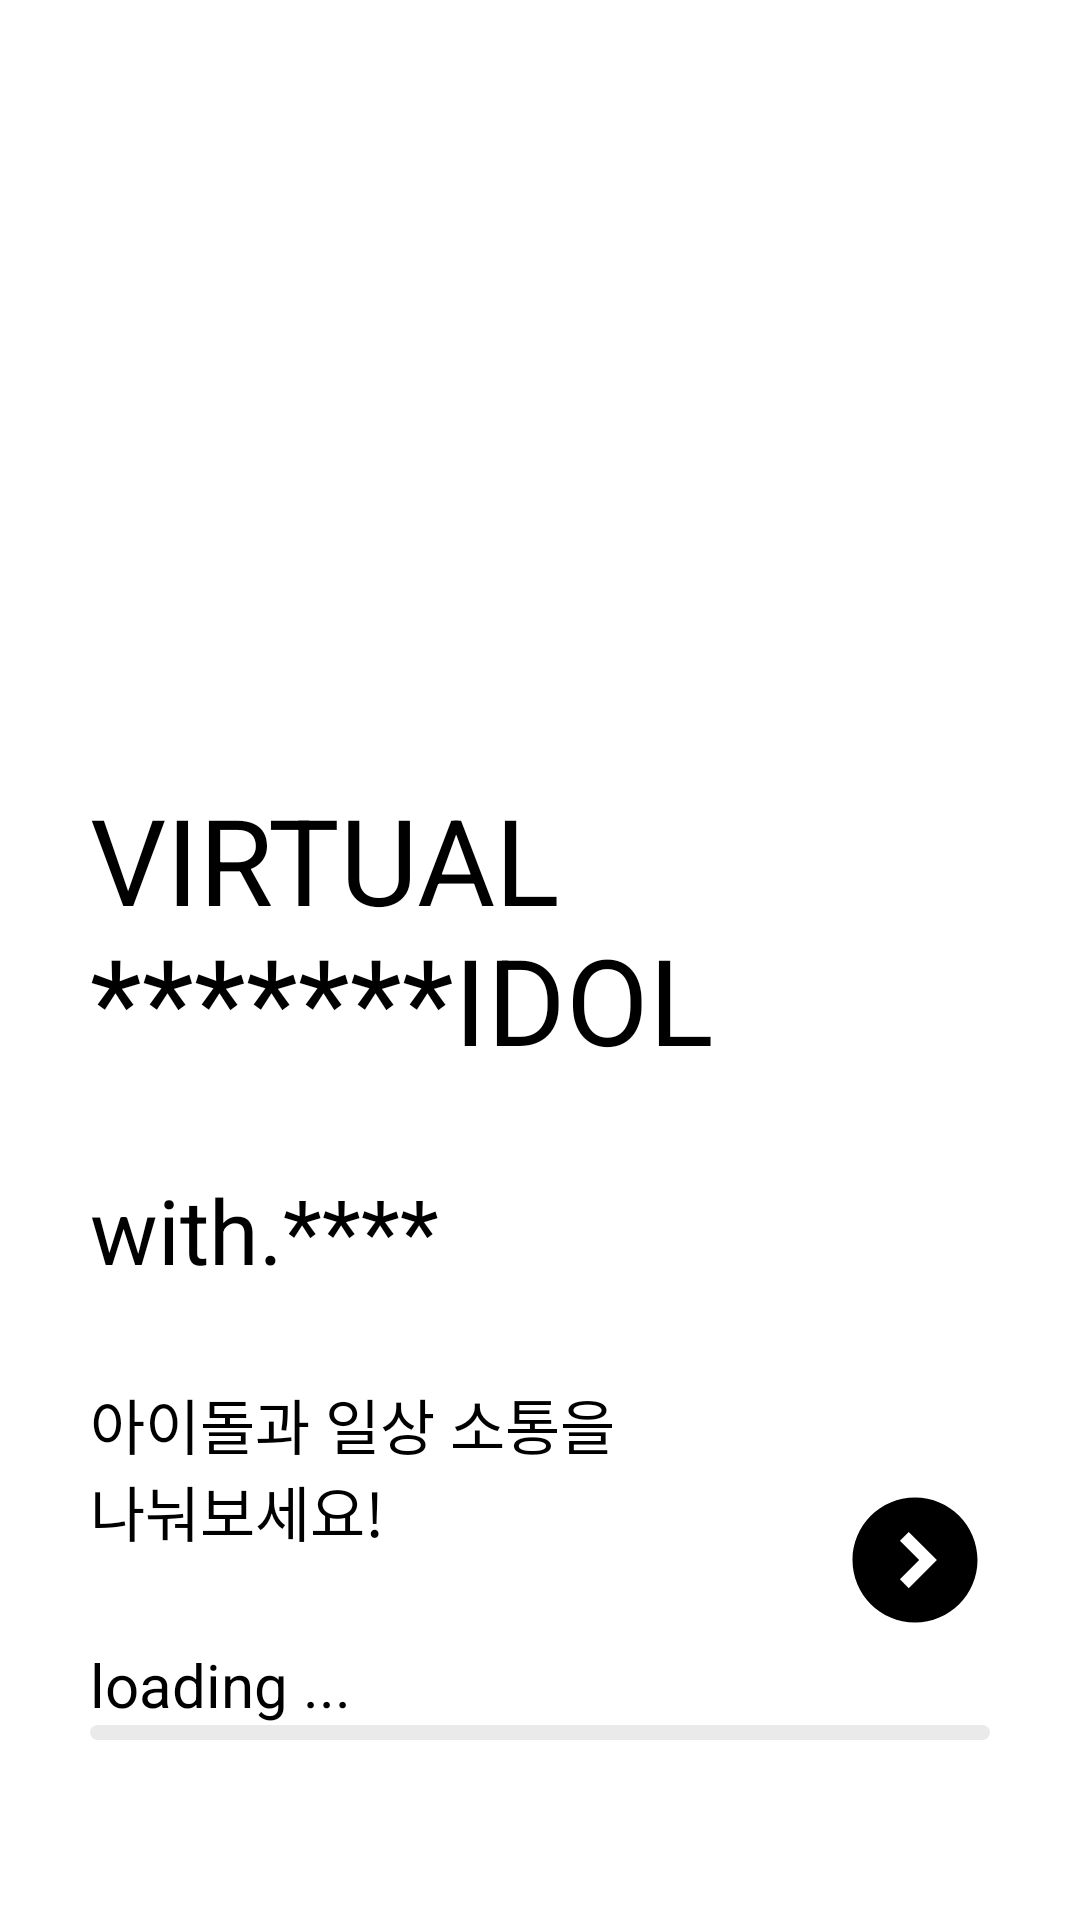

Named icons in this screenshot (1080px×1920px) and their bounding boxes, (x1, y1, x2, y2):
next login pager: (852, 1497, 978, 1623)
